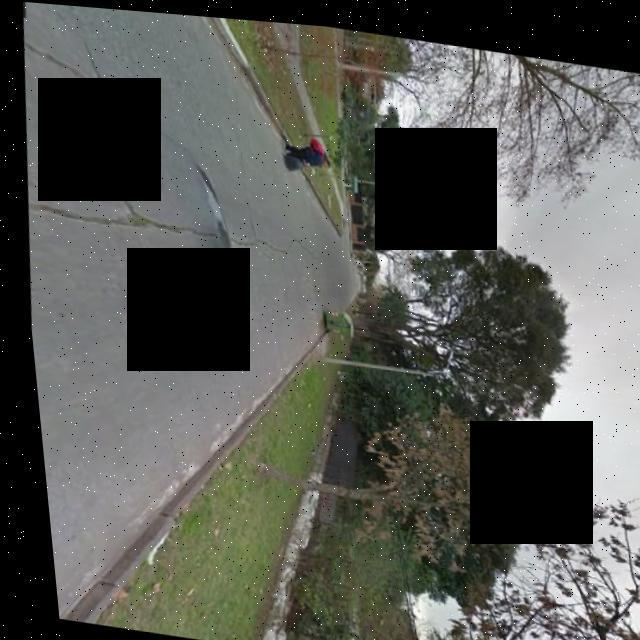bin: (308, 298, 356, 341)
